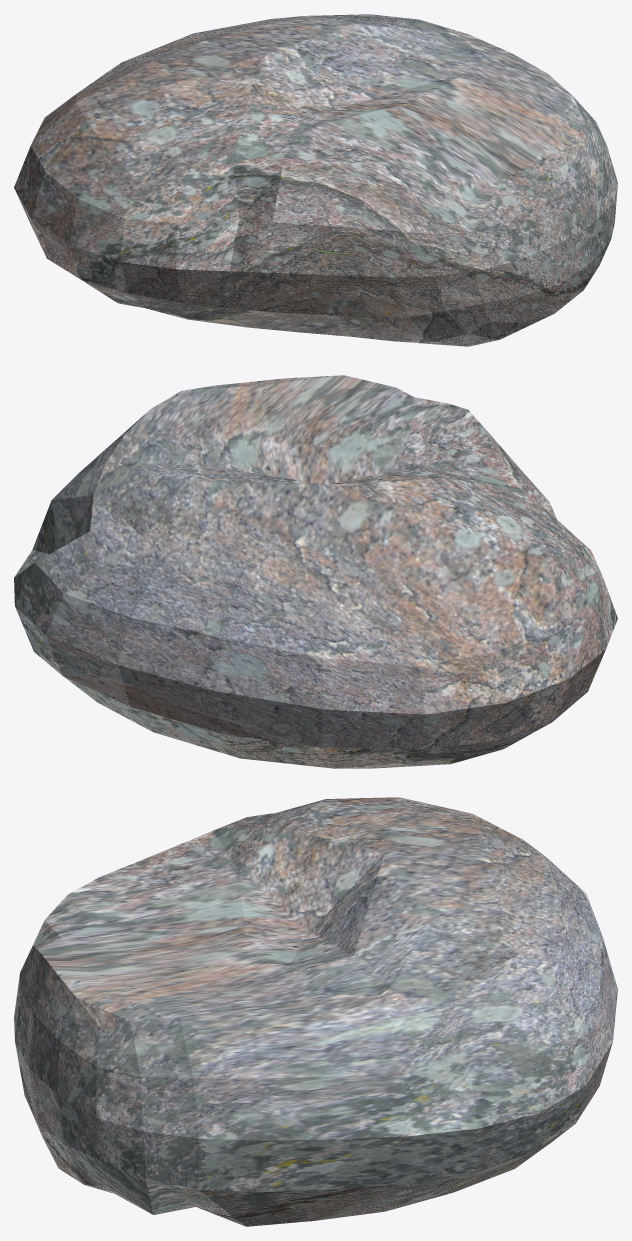
File: one_stone.dae
3 renders of one model, top to bottom at view 1: azimuth 30°, elevation 25°; view 2: azimuth 150°, elevation 25°; view 3: azimuth 270°, elevation 25°, orthographic. The views are drawn at different scales.
Parts seen in each view (by area): view 1: ___DUMMY_Group01; view 2: ___DUMMY_Group01; view 3: ___DUMMY_Group01.
Part boxes in pixels (x1,y1,x2,y2): ___DUMMY_Group01: (14,14,617,346); ___DUMMY_Group01: (14,375,617,768); ___DUMMY_Group01: (14,797,617,1226).
Size of the model in its own units: 0.4748 by 0.4289 by 0.2079.
1 material, 1 textured.
